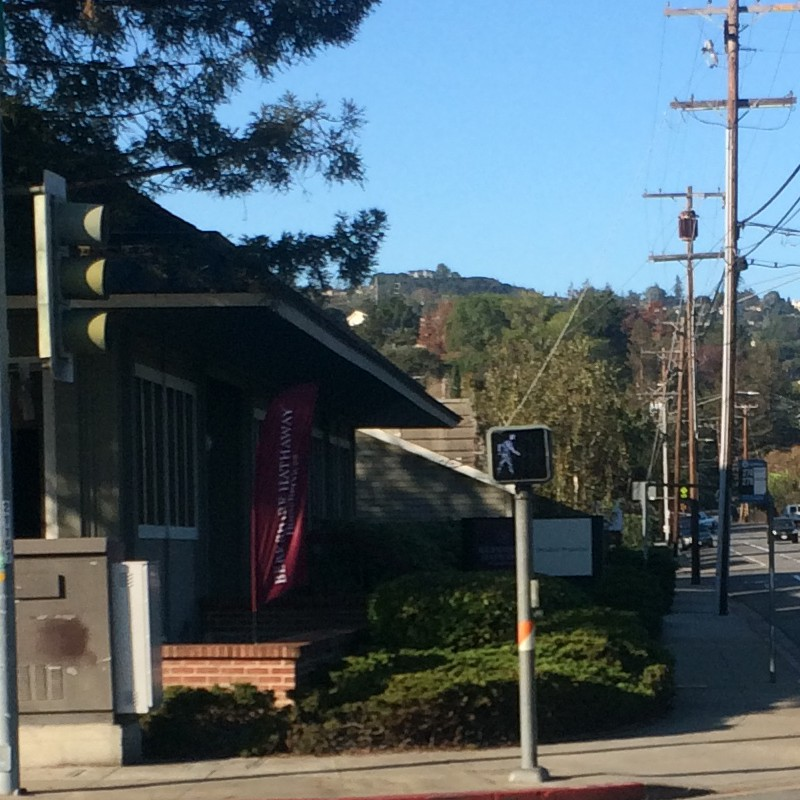go: (484, 424, 554, 486)
